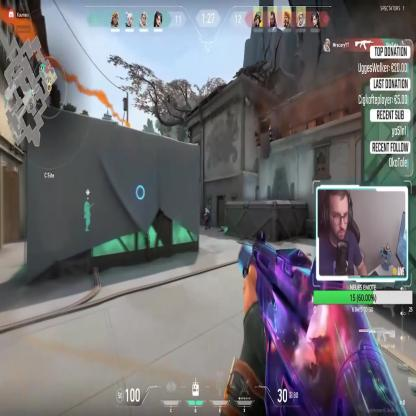enemy: (202, 205, 211, 230)
enemy_head: (205, 208, 207, 212)
